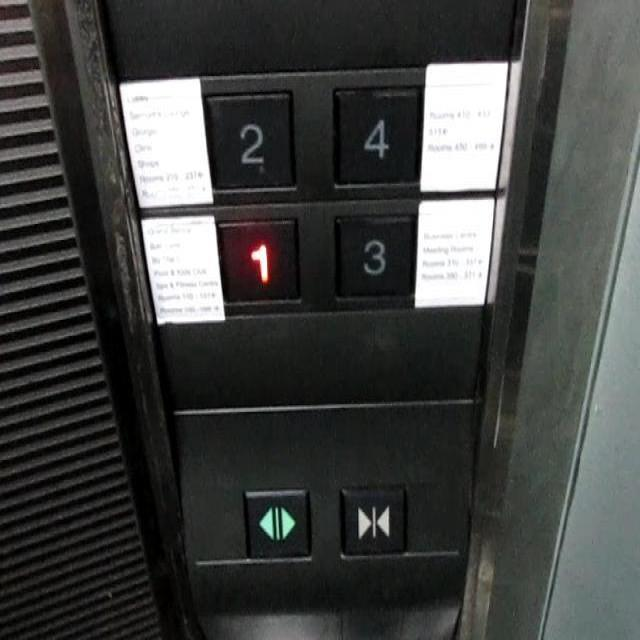1: (216, 218, 296, 302)
2: (202, 91, 296, 192)
3: (331, 215, 414, 297)
4: (330, 86, 422, 186)
close: (342, 488, 405, 555)
open: (242, 488, 310, 559)
